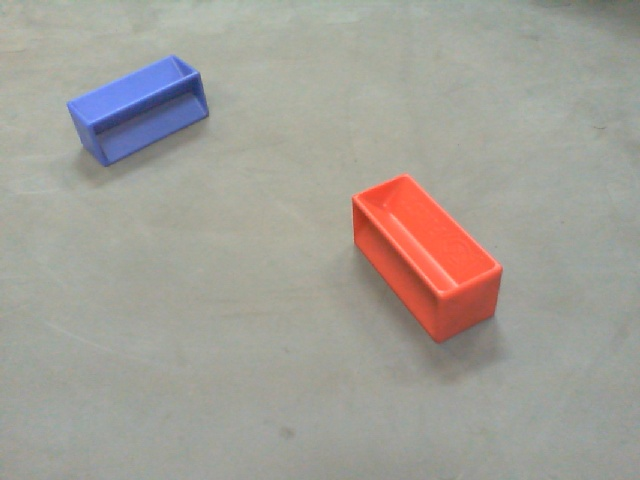BlueSample: (64, 54, 215, 168)
RedSample: (349, 170, 508, 345)
